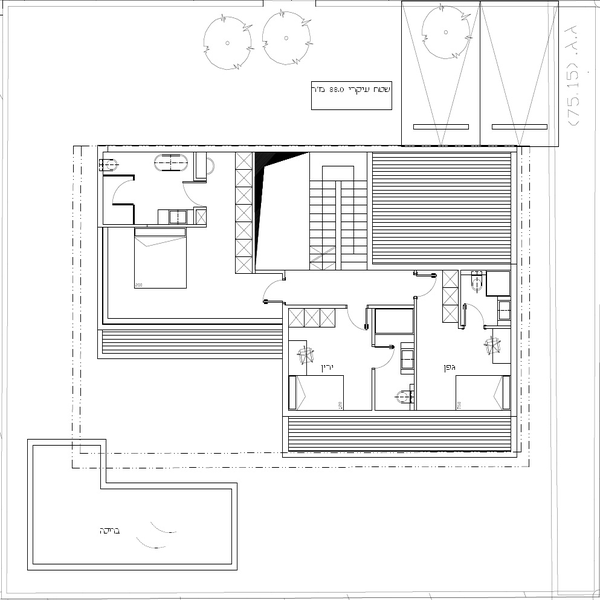door: (463, 295, 491, 336), (260, 279, 289, 311), (111, 177, 140, 208), (181, 175, 208, 204), (346, 307, 373, 334), (411, 271, 437, 299), (371, 341, 394, 371)
room: (237, 134, 525, 274), (279, 266, 524, 424), (96, 139, 259, 323)
wall: (98, 139, 521, 159), (508, 152, 527, 419), (359, 255, 517, 278), (287, 406, 518, 417), (363, 142, 378, 271), (280, 308, 292, 420), (91, 147, 108, 221)
